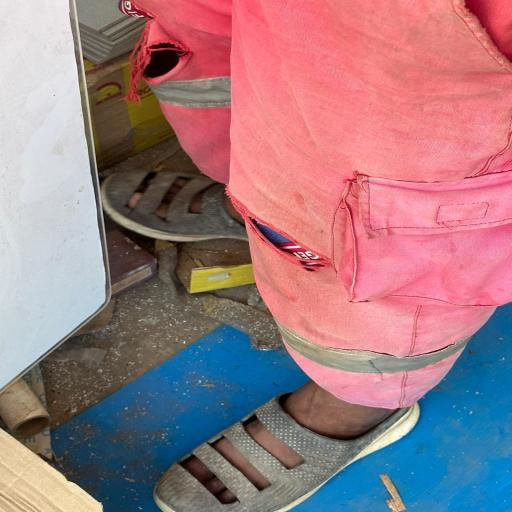not_safety_shoe: (152, 393, 426, 512), (115, 150, 265, 248)
